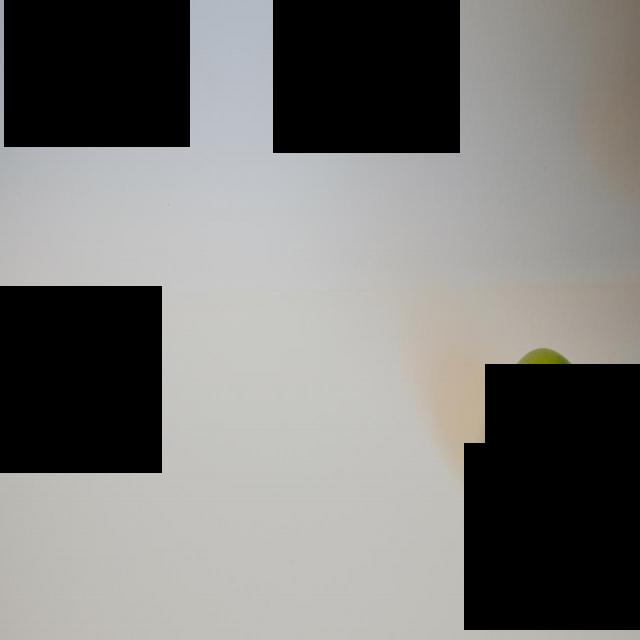apple: (496, 345, 598, 534)
